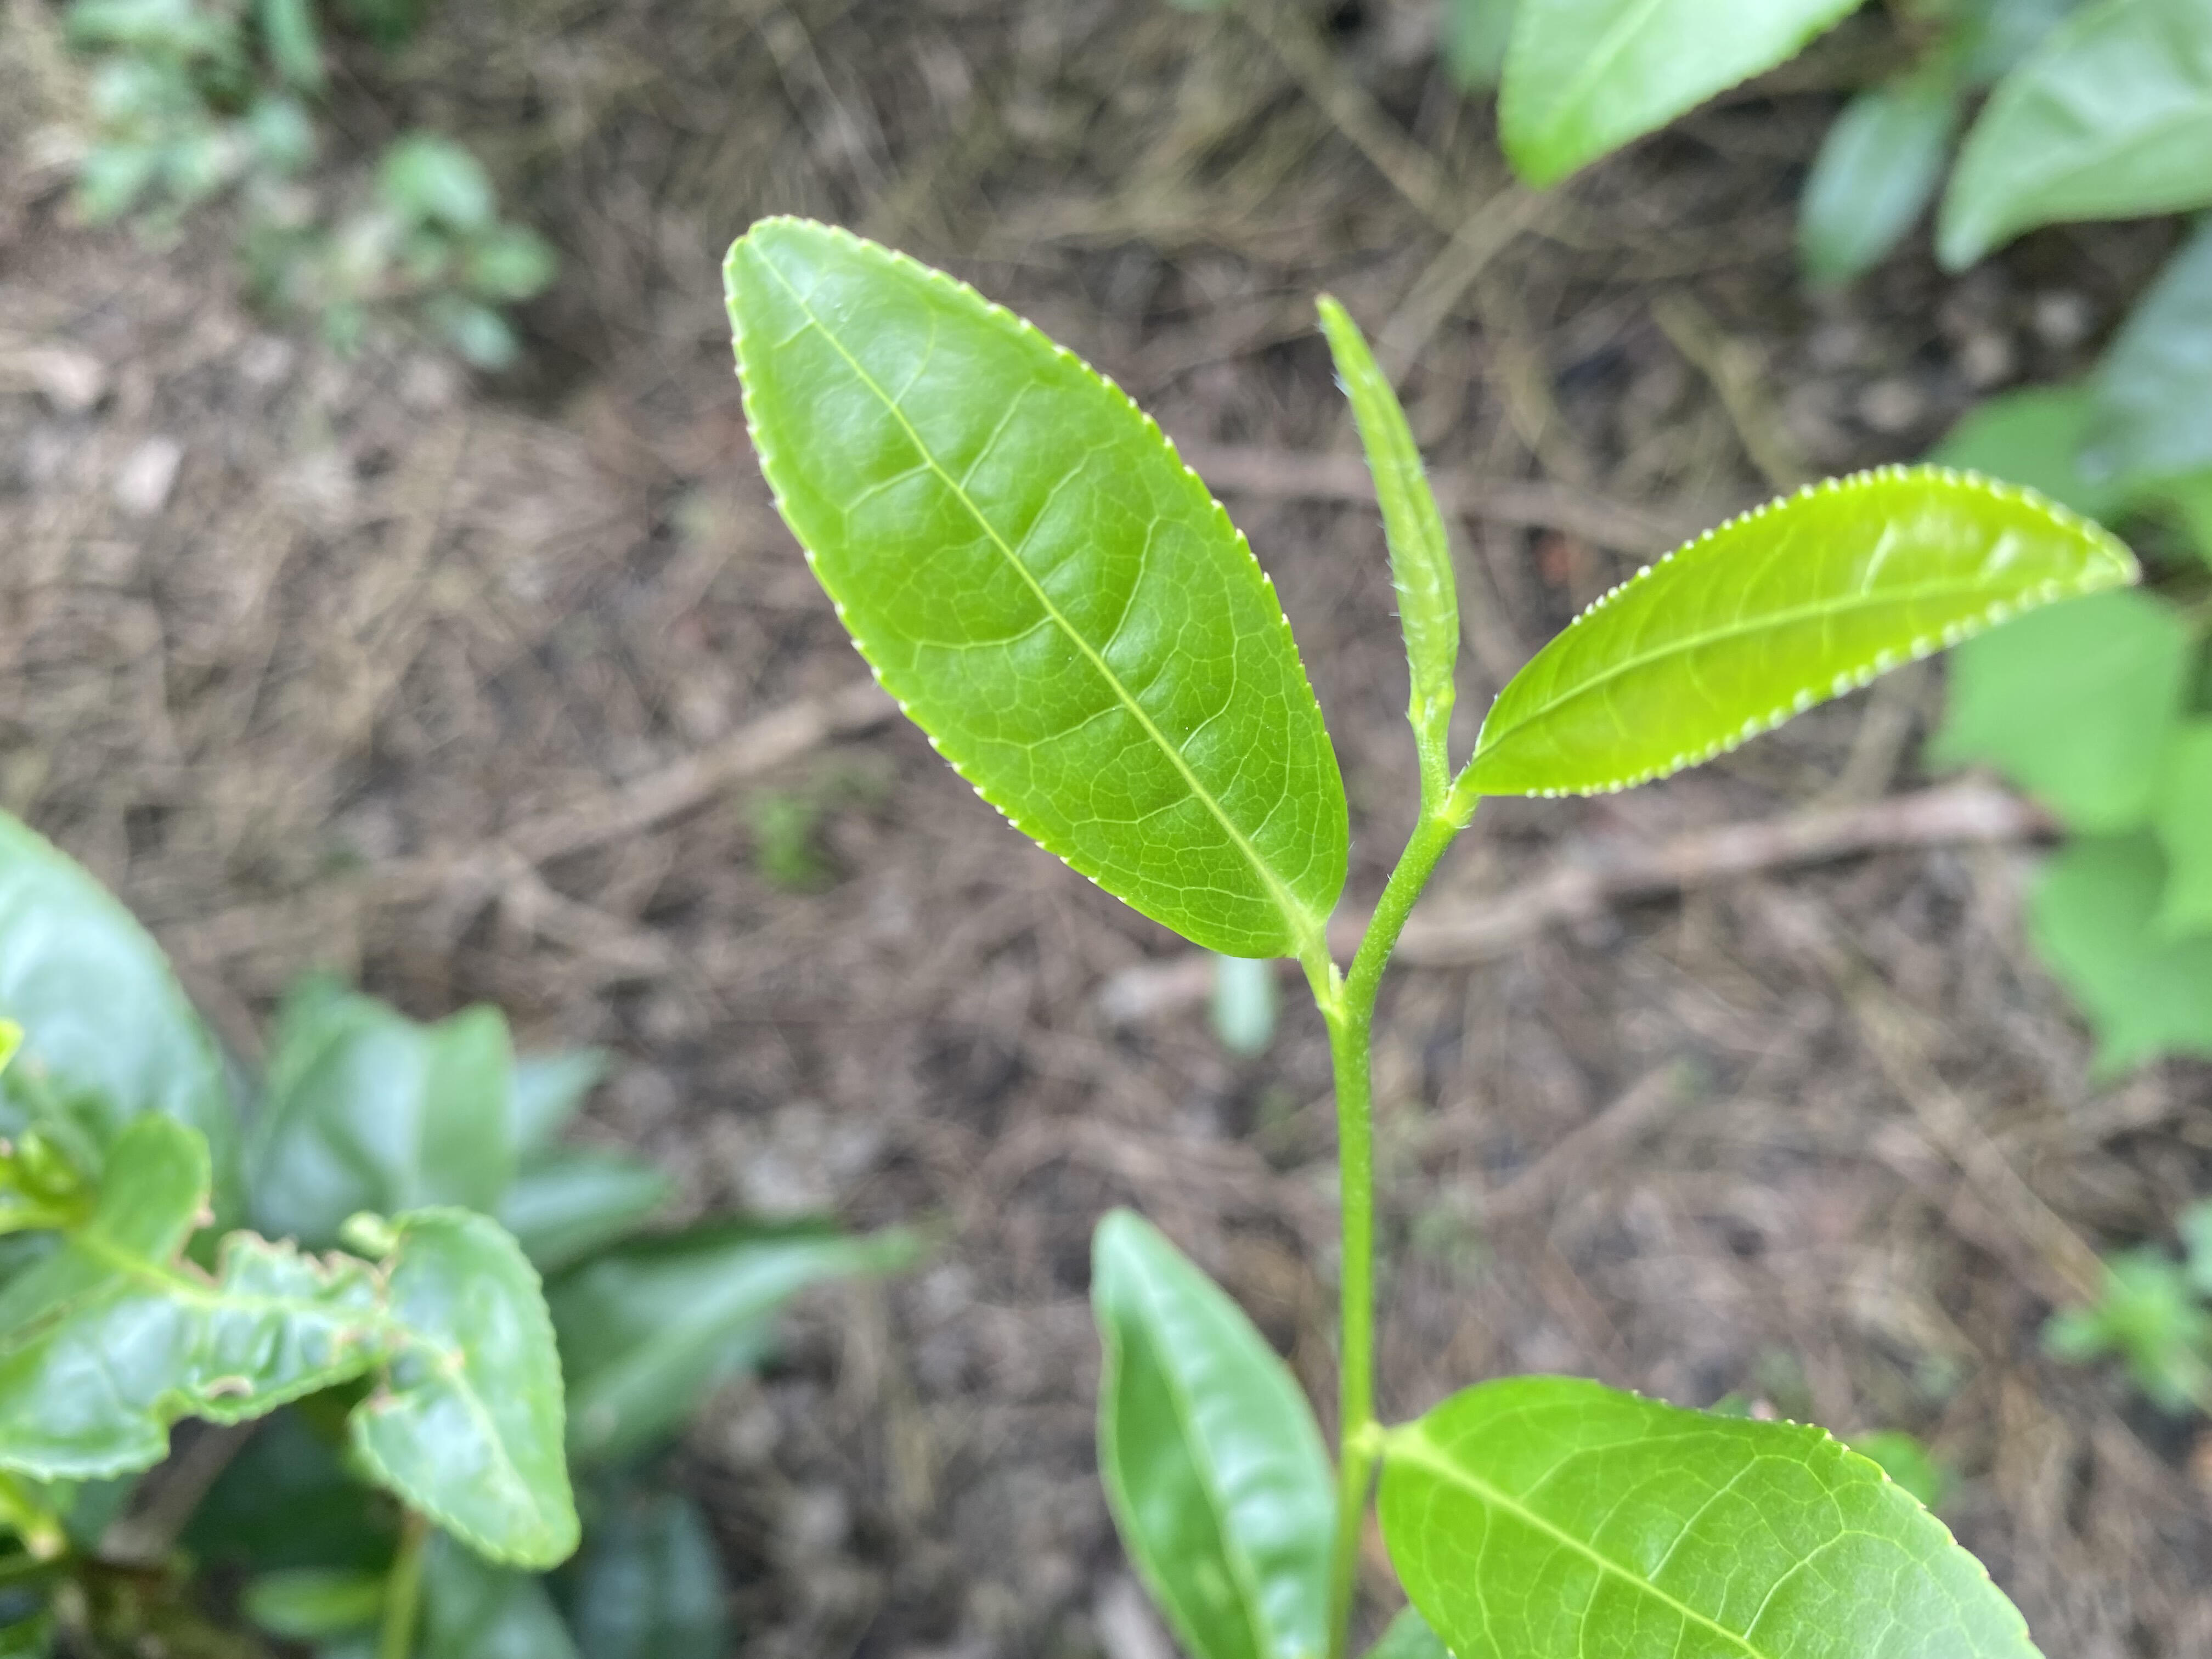chihuo_high: (5, 1114, 583, 1570)
healthy: (723, 216, 1355, 962), (1468, 460, 2141, 803), (1376, 1373, 2047, 1657)
